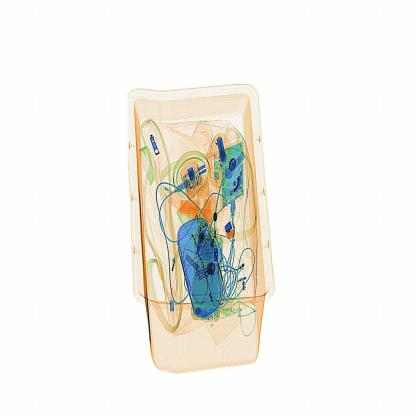wrench: (222, 219, 241, 245)
